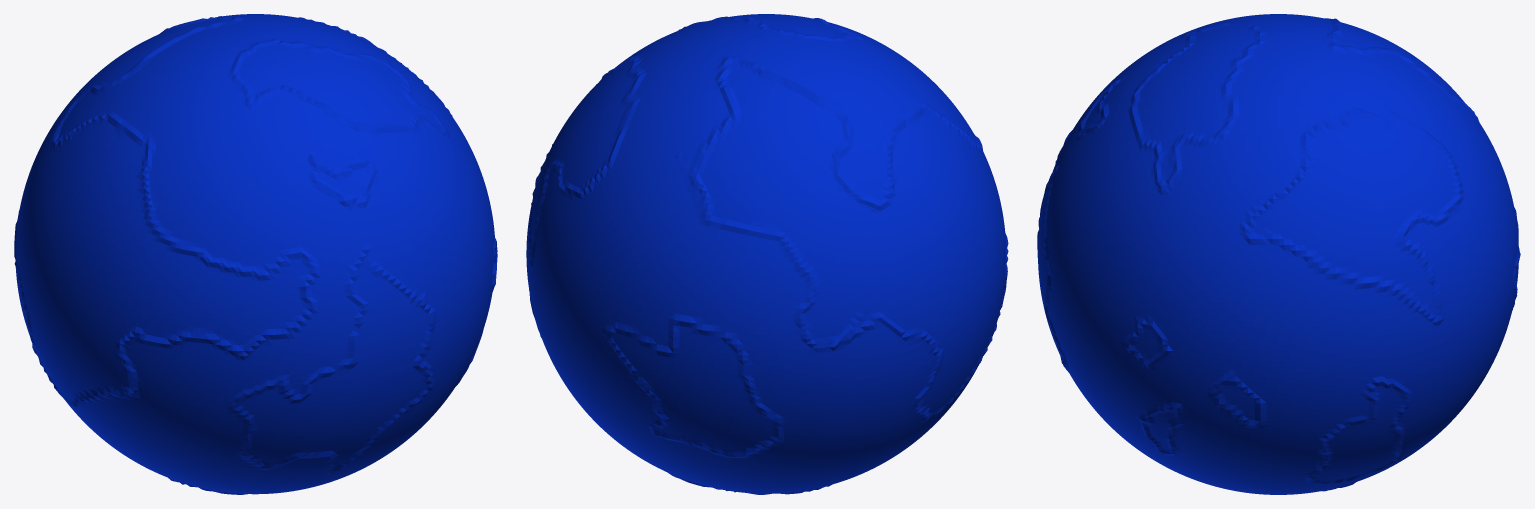
File: Planet.obj
3 views of the same model, side by side, from view 1: azimuth 30°, elevation 25°; view 2: azimuth 150°, elevation 25°; view 3: azimuth 270°, elevation 25° (orthographic).
Parts seen in each view (by area): view 1: Quad_Sphere; view 2: Quad_Sphere; view 3: Quad_Sphere.
Part boxes in pixels (x1,y1,x2,y2): Quad_Sphere: [14, 14, 497, 494]; Quad_Sphere: [526, 14, 1008, 494]; Quad_Sphere: [1037, 14, 1520, 494].
Bounding box in the file's own units: 2.57 × 2.57 × 2.58.
